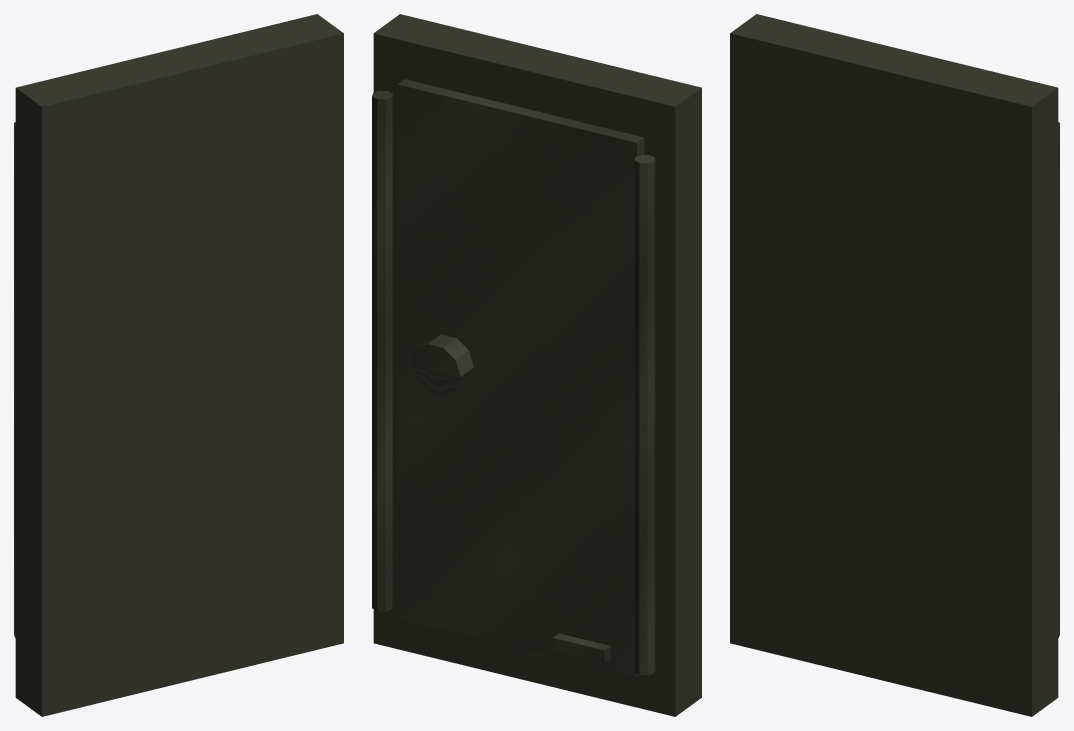
The model's file is prop_elevator_cage_a.glb.
3 views of the same model, side by side, from view 1: azimuth 30°, elevation 25°; view 2: azimuth 150°, elevation 25°; view 3: azimuth 330°, elevation 25° (orthographic).
Parts seen in each view (by area): view 1: prop_elevator_cage_a; view 2: prop_elevator_cage_a; view 3: prop_elevator_cage_a.
Boxes of the visible parts, x1,y1,x2,y2 form: prop_elevator_cage_a: [14, 14, 343, 716]; prop_elevator_cage_a: [372, 14, 701, 716]; prop_elevator_cage_a: [730, 14, 1059, 716].
Bounding box in the file's own units: 1.45 × 2.8 × 0.405.
1 material, 1 textured.
